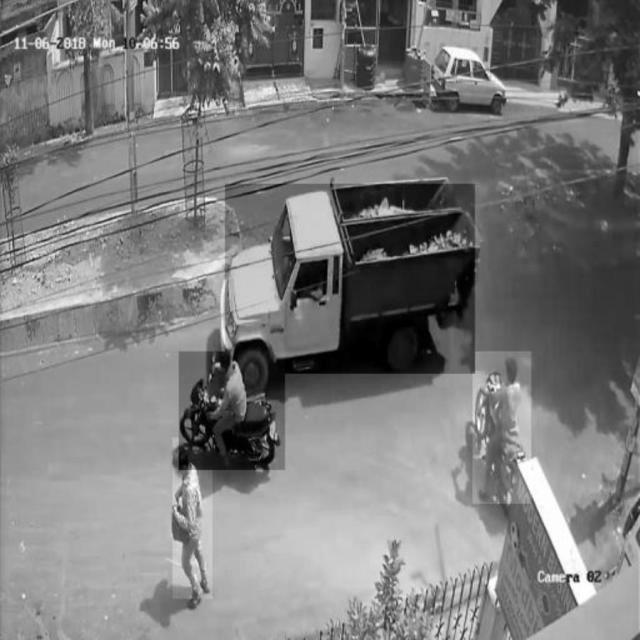person: (173, 438, 213, 598)
vehicle: (225, 184, 475, 374), (179, 352, 285, 470), (473, 352, 531, 504), (430, 48, 507, 121)
